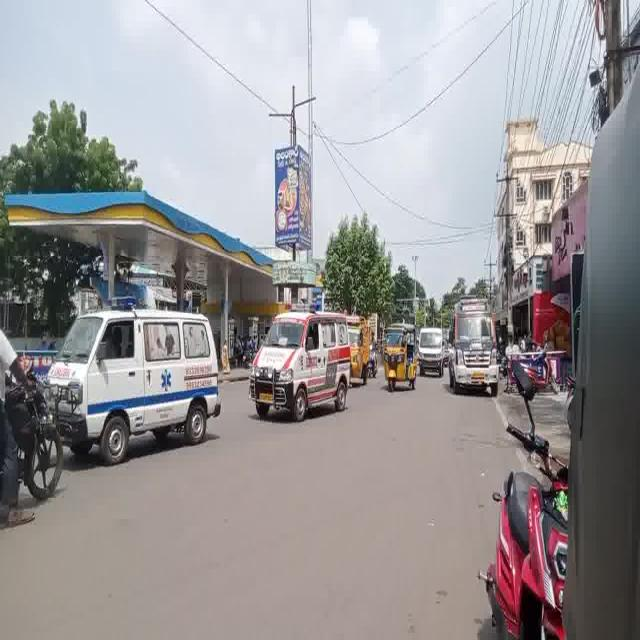ambulance: (41, 323, 238, 435), (248, 307, 365, 410), (438, 287, 509, 401)
